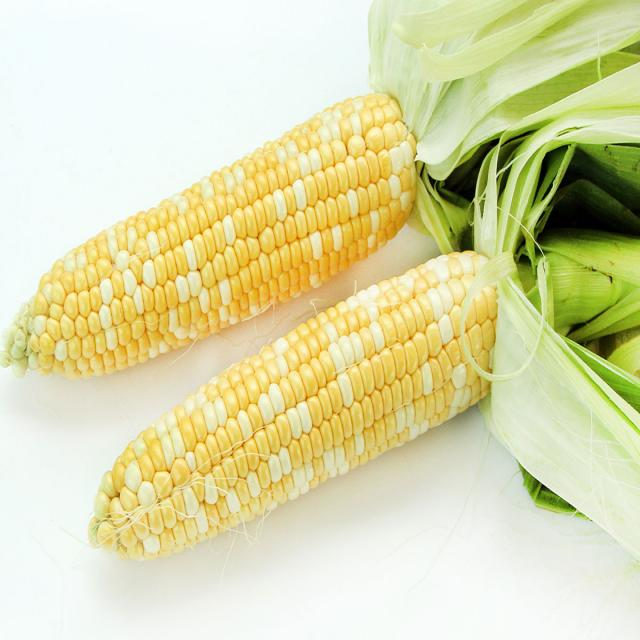Corn ear: (295, 250, 493, 508), (189, 90, 415, 310), (82, 394, 296, 567), (18, 191, 198, 380)
